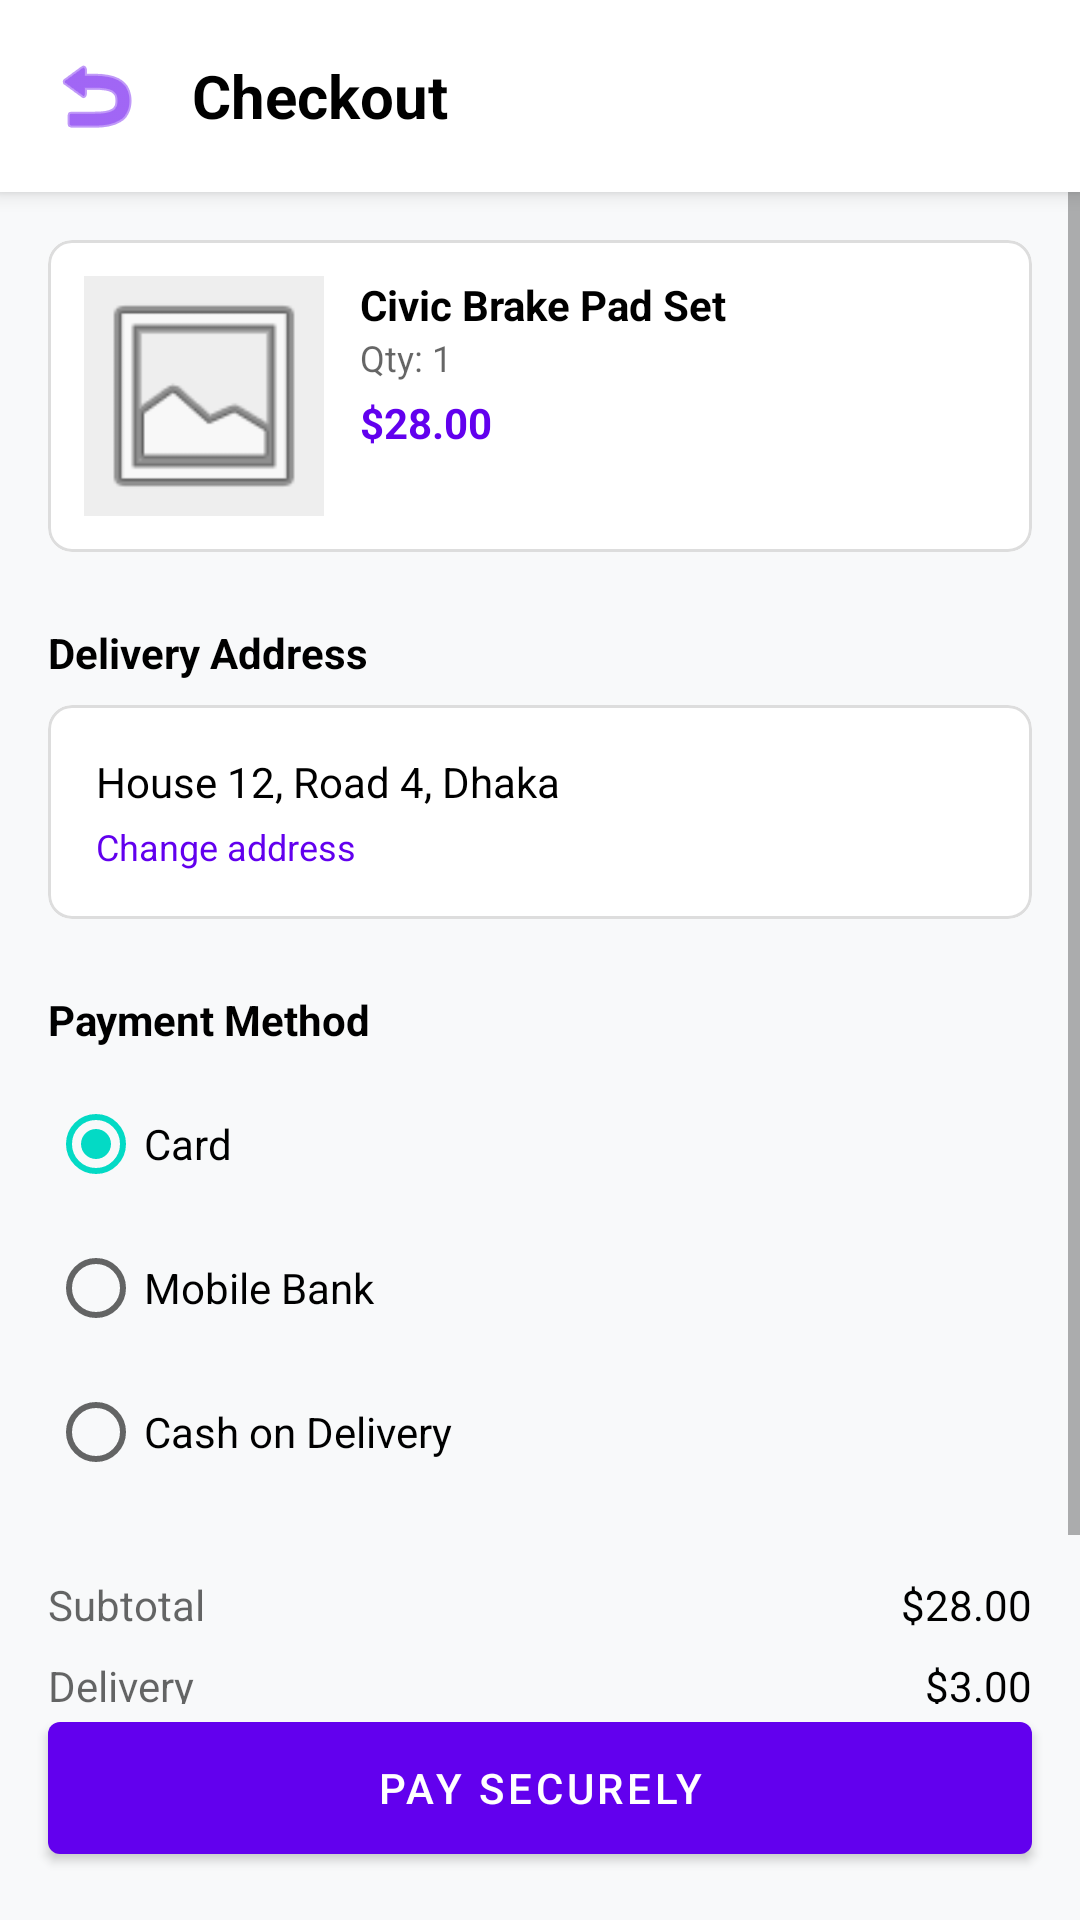

Screen size 1080px×1920px. Icon name, then its box in pixels as (x1, y1, x2, y2):
Back: (63, 65, 132, 128)
gallery: (84, 276, 324, 516)
